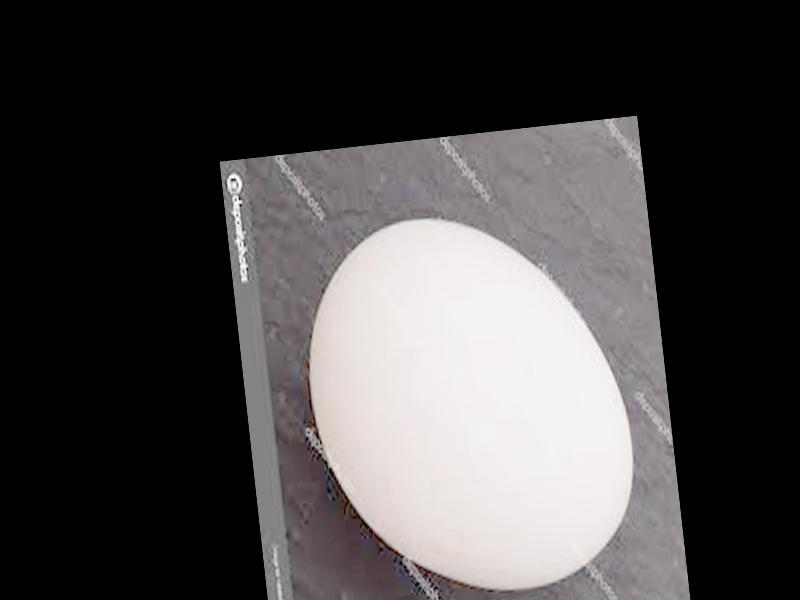Eggs: (293, 200, 643, 600)
